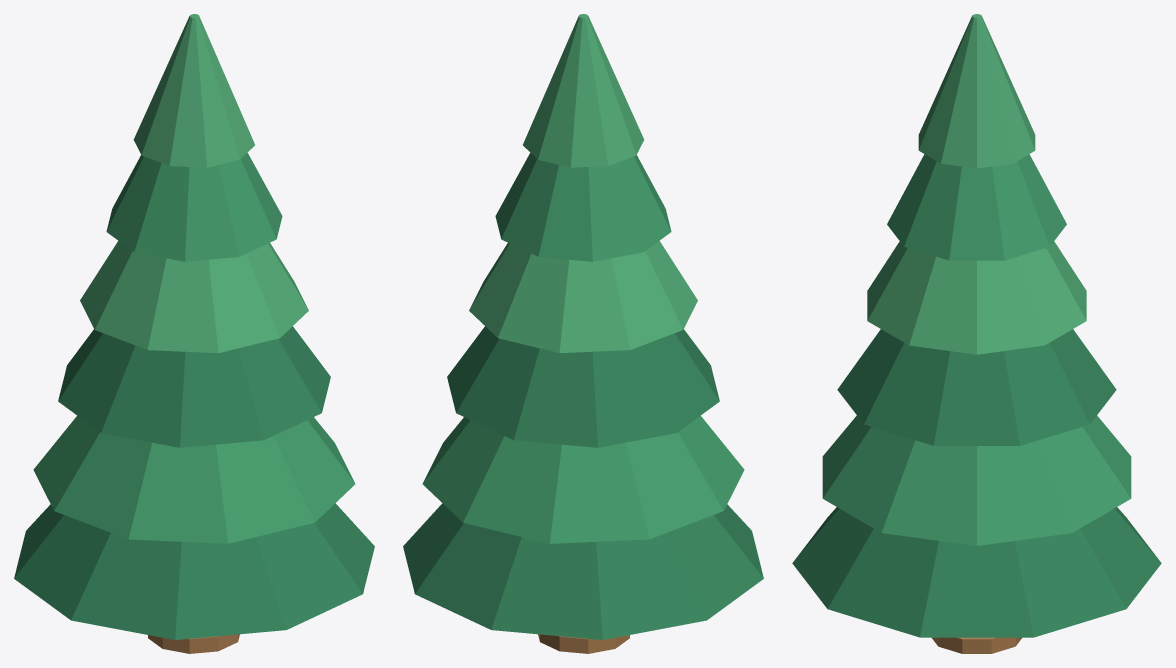
Rendered from FTF_Nature_Pine_Tall.glb.
3 views of the same model, side by side, from view 1: azimuth 30°, elevation 25°; view 2: azimuth 150°, elevation 25°; view 3: azimuth 270°, elevation 25° (orthographic).
Parts seen in each view (by area): view 1: Needle_Tier_01, Needle_Tier_02, Needle_Tier_03, Needle_Tier_04, Needle_Tier_05, Needle_Tier_06, Trunk_Base; view 2: Needle_Tier_01, Needle_Tier_02, Needle_Tier_03, Needle_Tier_04, Needle_Tier_05, Needle_Tier_06, Trunk_Base; view 3: Needle_Tier_01, Needle_Tier_02, Needle_Tier_03, Needle_Tier_04, Needle_Tier_05, Needle_Tier_06, Trunk_Base.
Boxes of the visible parts, left/top/right/bottom form: Needle_Tier_01: left=14, top=503, right=374, bottom=639; Needle_Tier_02: left=33, top=415, right=355, bottom=543; Needle_Tier_03: left=58, top=326, right=330, bottom=447; Needle_Tier_04: left=80, top=241, right=308, bottom=353; Needle_Tier_05: left=106, top=153, right=282, bottom=261; Needle_Tier_06: left=133, top=14, right=254, bottom=167; Trunk_Base: left=148, top=634, right=239, bottom=653; Needle_Tier_01: left=403, top=503, right=763, bottom=639; Needle_Tier_02: left=422, top=415, right=744, bottom=543; Needle_Tier_03: left=447, top=326, right=719, bottom=447; Needle_Tier_04: left=469, top=241, right=697, bottom=353; Needle_Tier_05: left=495, top=153, right=671, bottom=261; Needle_Tier_06: left=523, top=14, right=644, bottom=167; Trunk_Base: left=538, top=634, right=629, bottom=653; Needle_Tier_01: left=792, top=507, right=1161, bottom=637; Needle_Tier_02: left=822, top=415, right=1131, bottom=545; Needle_Tier_03: left=837, top=329, right=1116, bottom=445; Needle_Tier_04: left=867, top=241, right=1086, bottom=354; Needle_Tier_05: left=887, top=154, right=1066, bottom=260; Needle_Tier_06: left=918, top=14, right=1035, bottom=168; Trunk_Base: left=932, top=637, right=1021, bottom=653.
Size of the model in its own units: 3.9 by 7.58 by 4.1.
